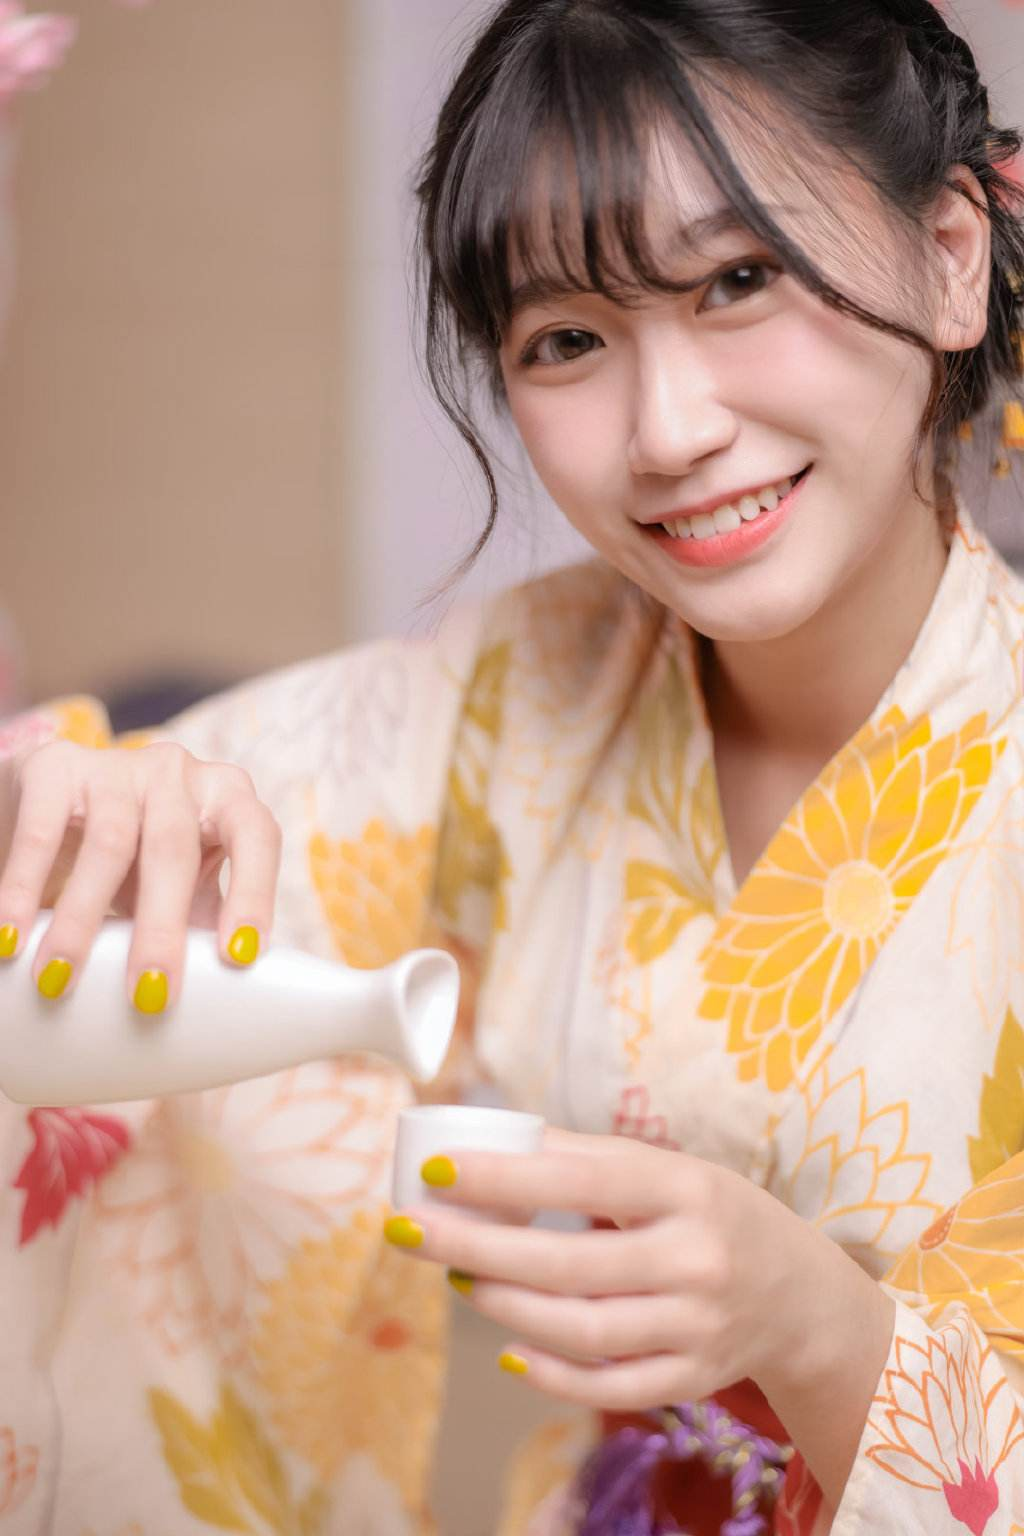person: (237, 1, 1024, 1182)
